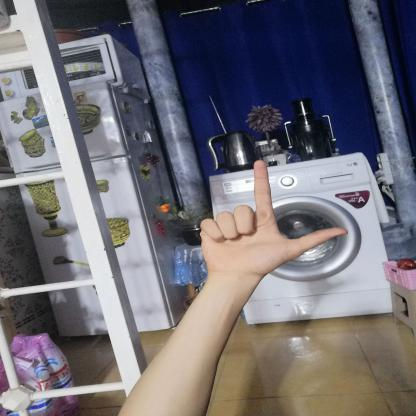LAAM: (184, 151, 358, 284)
